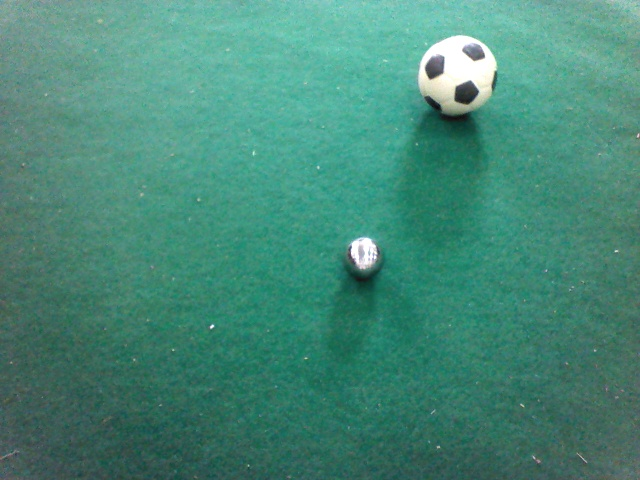ball: (302, 228, 420, 346)
